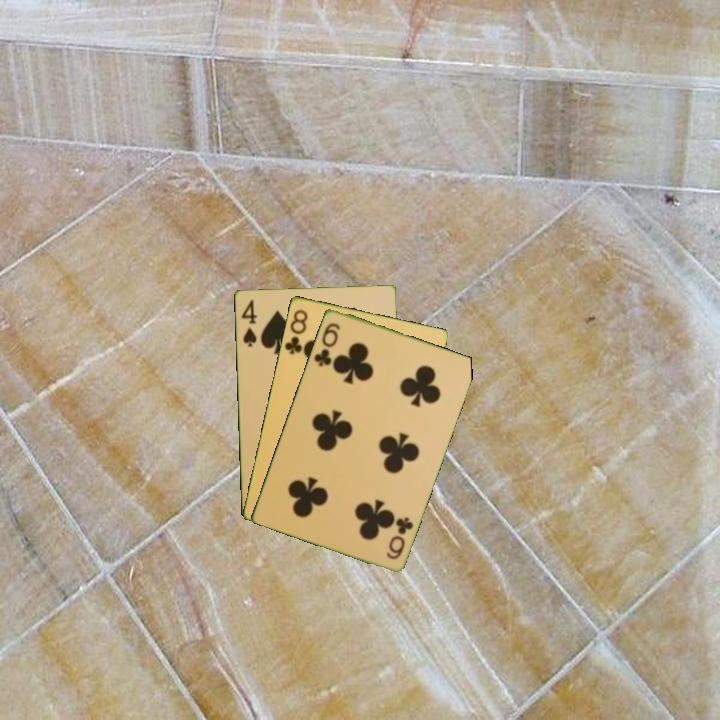4s: (238, 296, 259, 349)
6c: (310, 319, 343, 369), (383, 513, 416, 562)
8c: (281, 305, 311, 357)
